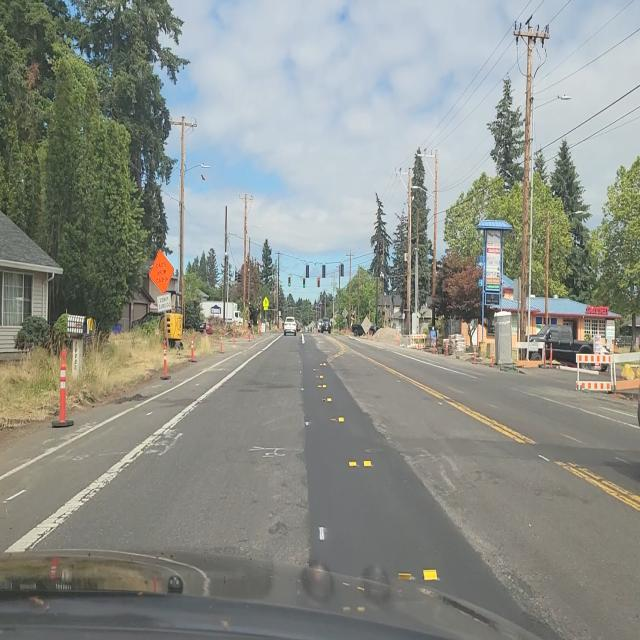car: (524, 325, 598, 368), (282, 316, 296, 337), (319, 318, 331, 334)
crosswalk-sign: (263, 296, 269, 308)
delineator: (52, 348, 74, 428), (161, 336, 171, 380), (190, 335, 197, 362), (542, 343, 547, 368), (549, 342, 553, 365), (219, 332, 223, 353), (232, 327, 236, 345), (445, 339, 449, 356), (247, 325, 251, 341), (491, 352, 495, 367), (252, 324, 256, 339), (258, 322, 262, 336), (473, 346, 476, 364), (397, 333, 400, 346)
